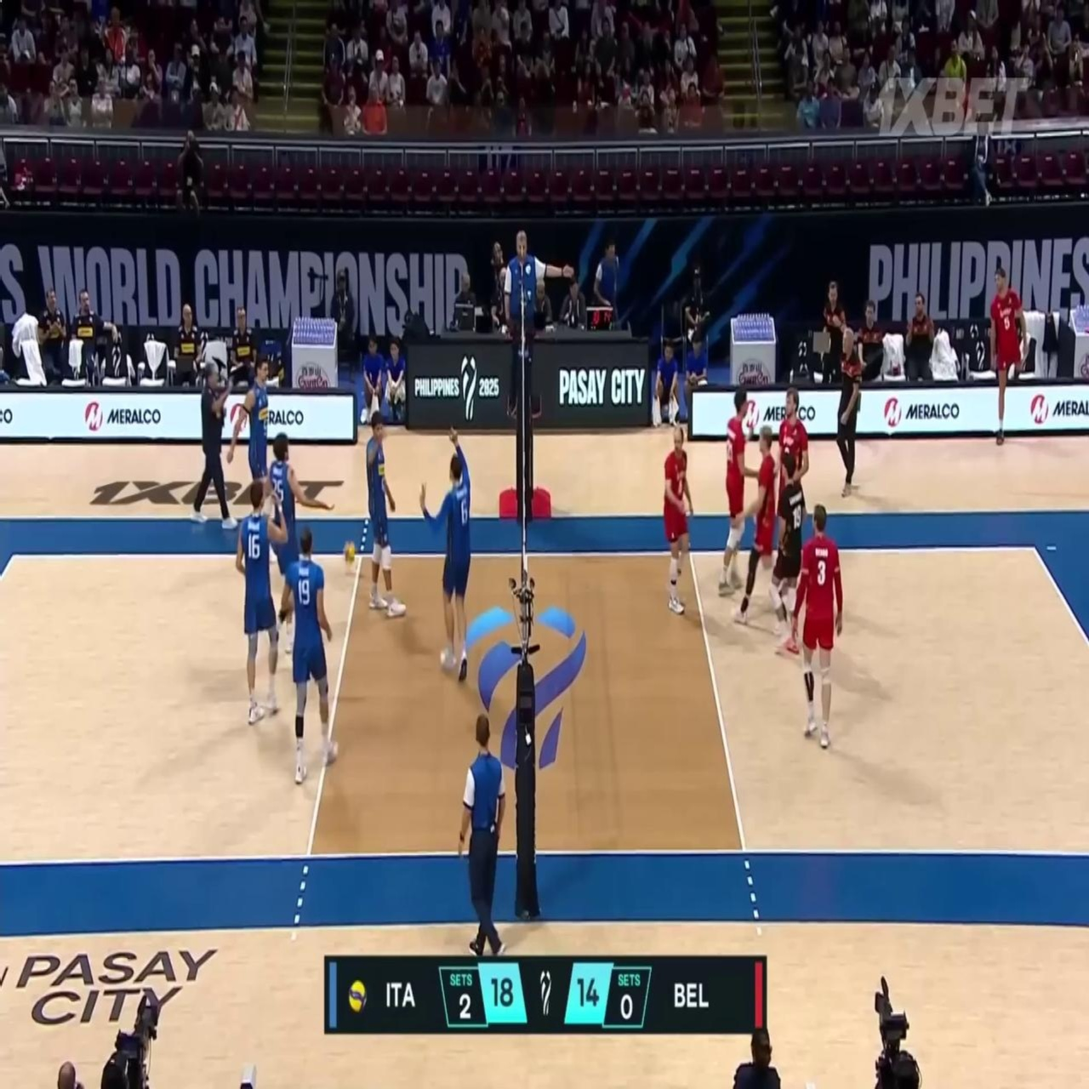ball: (343, 542, 355, 564)
